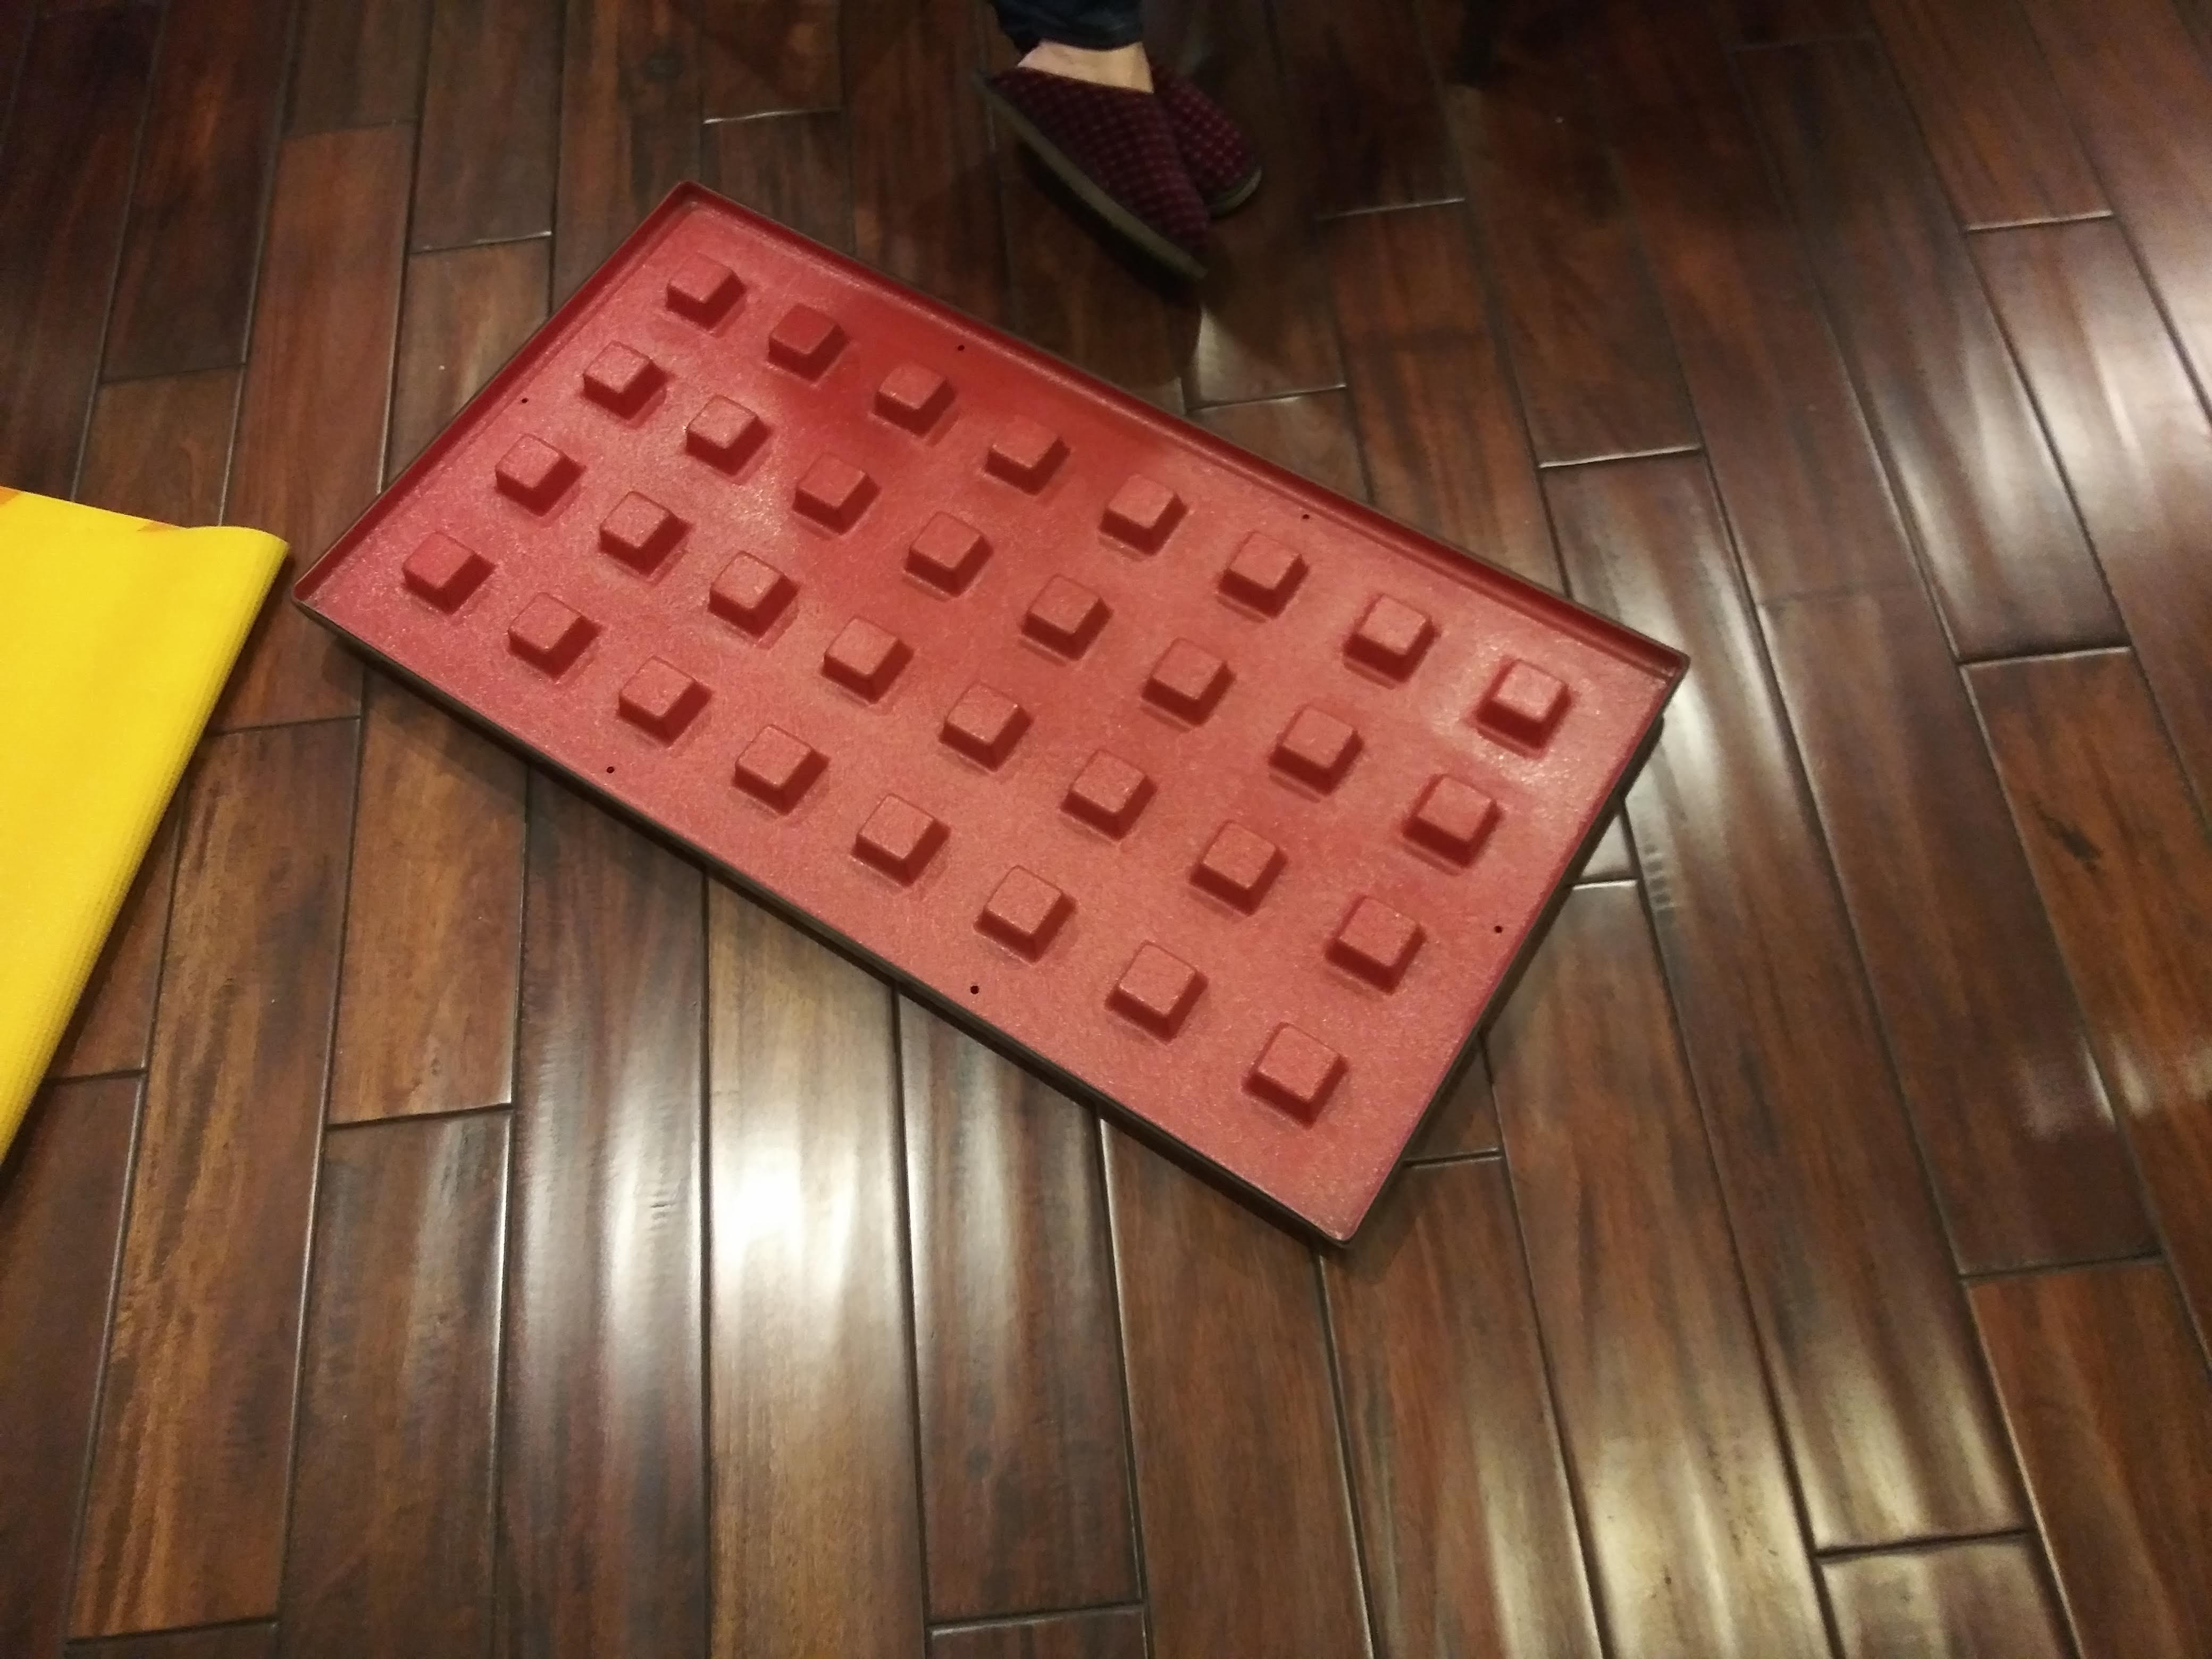red foundation: (280, 167, 1689, 1253)
